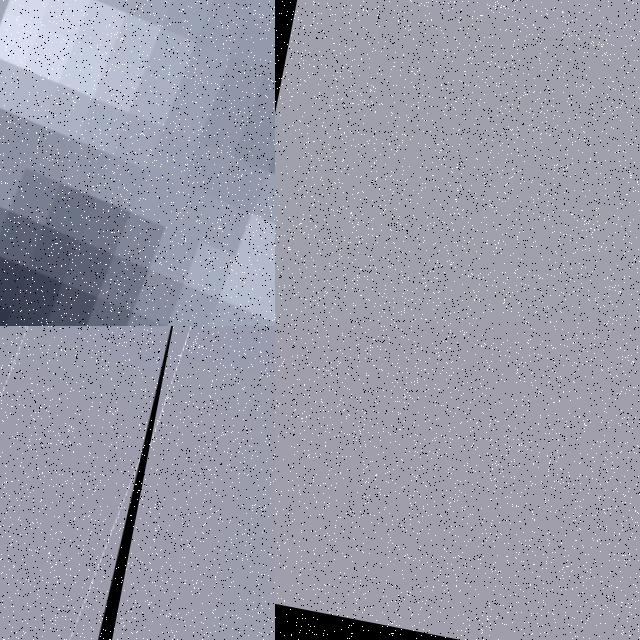drone: (0, 0, 275, 326), (0, 326, 185, 640)
